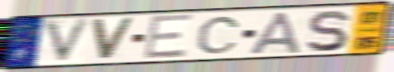A: (247, 11, 303, 56)
C: (195, 15, 243, 55)
E: (142, 13, 196, 62)
S: (304, 9, 351, 54)
V: (41, 16, 95, 66), (89, 17, 137, 62)
